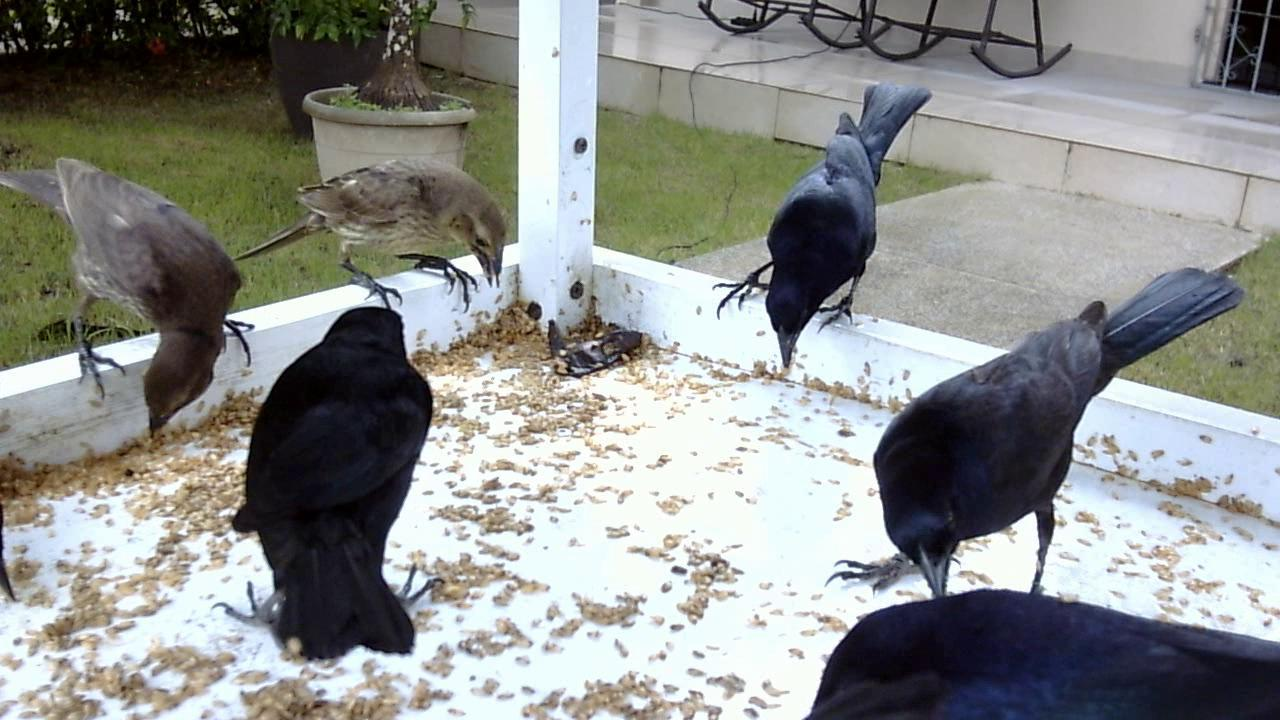chupim: (810, 261, 1245, 639), (200, 270, 458, 669), (1, 151, 271, 444), (699, 78, 948, 389), (803, 556, 1280, 710), (226, 151, 512, 321)
